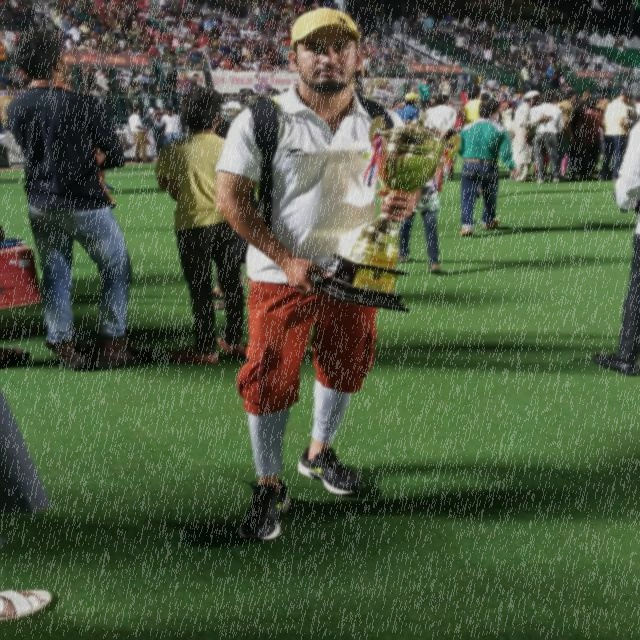pessoa: (216, 4, 434, 544), (0, 0, 639, 105), (4, 26, 160, 376), (154, 84, 250, 364), (0, 388, 63, 624), (590, 118, 639, 378), (450, 96, 520, 240), (0, 207, 45, 370), (395, 151, 453, 274), (508, 90, 554, 184), (528, 91, 564, 184), (598, 90, 632, 182), (438, 104, 470, 192), (428, 91, 458, 182), (138, 106, 186, 162), (576, 96, 605, 179), (554, 91, 580, 179), (527, 143, 573, 185), (126, 105, 156, 166), (158, 105, 184, 146), (460, 85, 484, 124), (394, 90, 421, 122), (593, 103, 608, 159), (491, 104, 518, 134), (386, 103, 435, 116), (214, 116, 232, 140), (624, 103, 639, 120), (143, 105, 162, 118)
